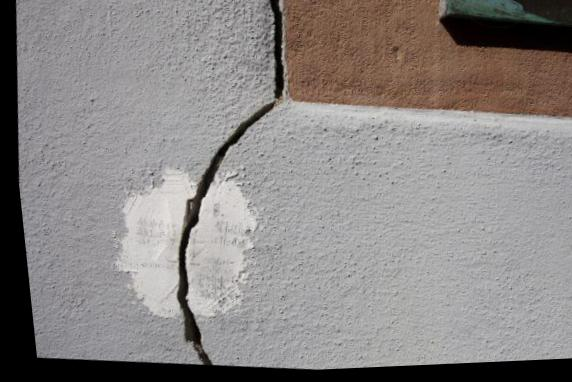crack: (171, 0, 283, 367)
